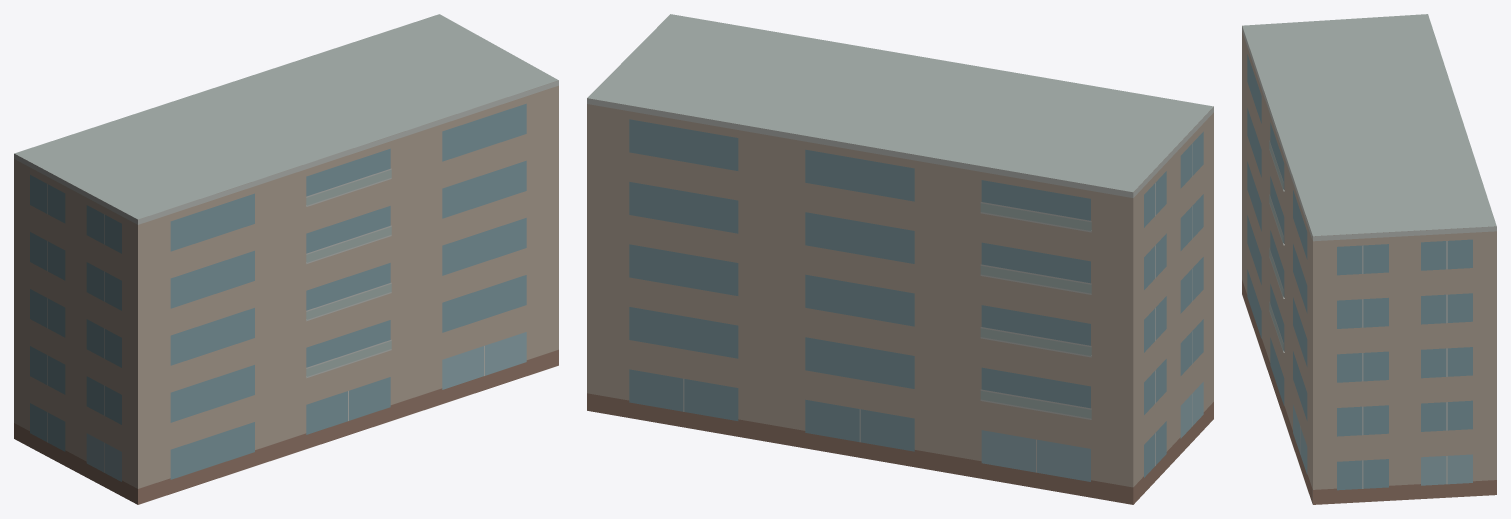
The model's file is survey-upis-32574677.glb.
3 renders of one model, left to right at view 1: azimuth 30°, elevation 25°; view 2: azimuth 150°, elevation 25°; view 3: azimuth 270°, elevation 25°, orthographic. The views are drawn at different scales.
Parts seen in each view (by area): view 1: survey-upis-32574677.tmp; view 2: survey-upis-32574677.tmp; view 3: survey-upis-32574677.tmp.
Part boxes in pixels (bbox=[...]): survey-upis-32574677.tmp: bbox=[14, 14, 558, 504]; survey-upis-32574677.tmp: bbox=[587, 14, 1213, 504]; survey-upis-32574677.tmp: bbox=[1242, 14, 1496, 504].
Size of the model in its own units: 23.07 by 13 by 11.18.
